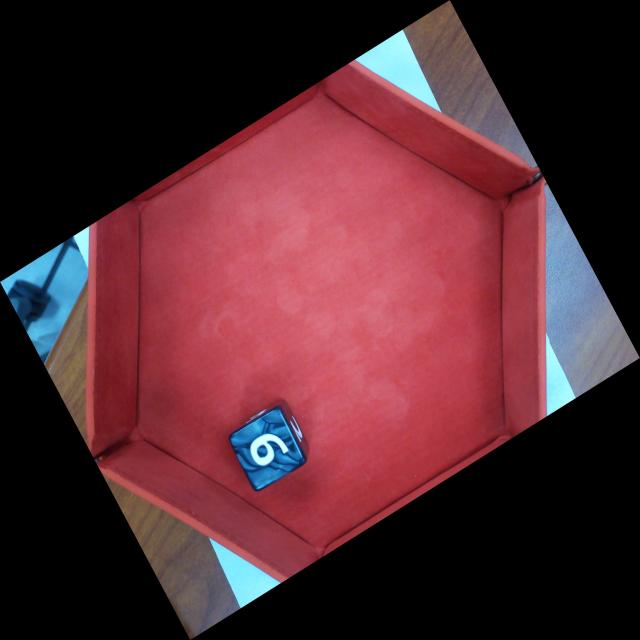dice: (226, 406, 309, 494)
